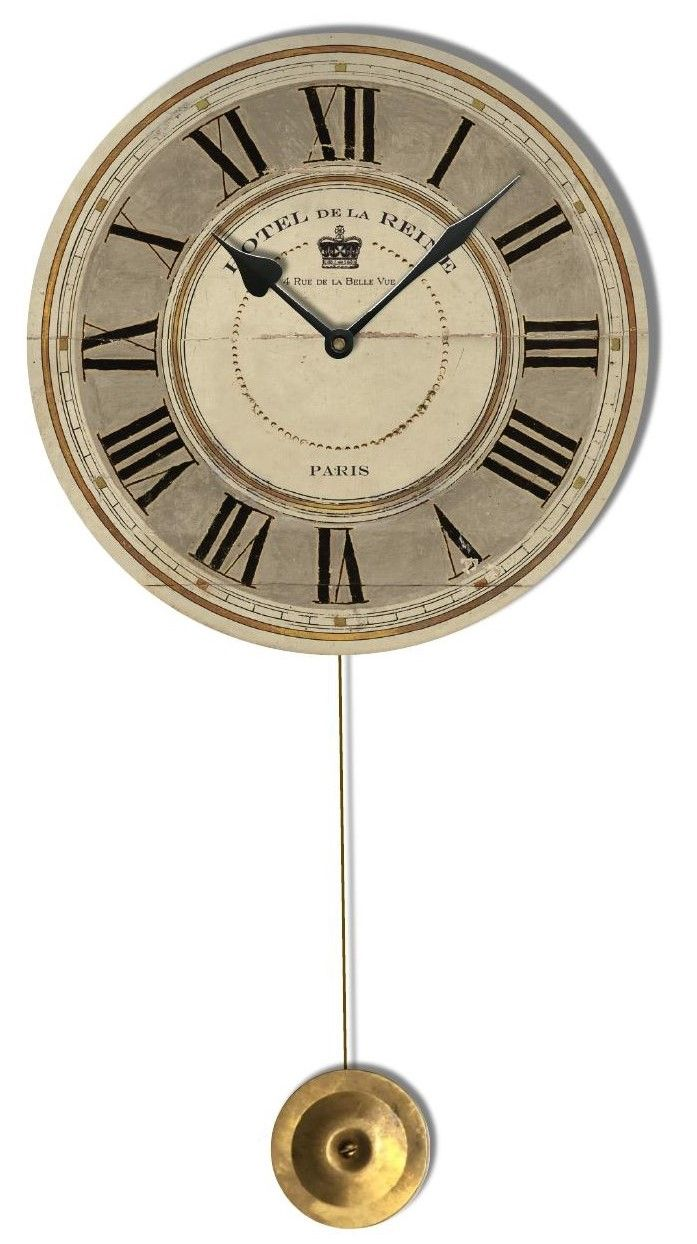clock: (50, 44, 636, 645)
